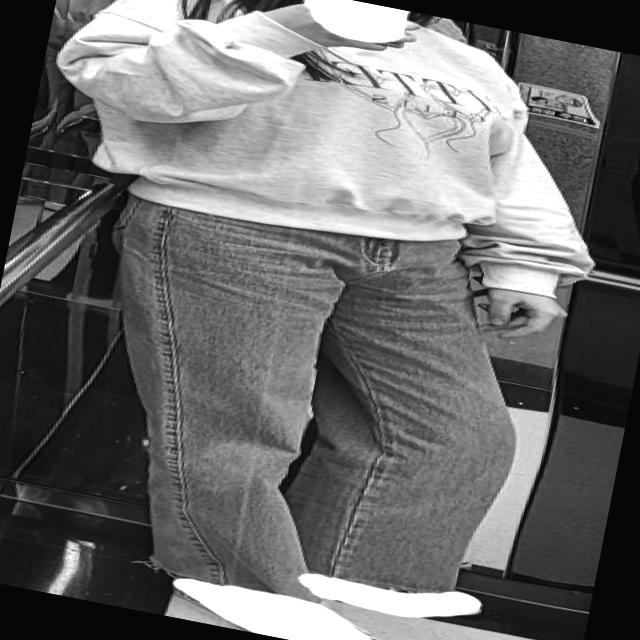denimpants: (51, 179, 553, 640)
mtm: (34, 0, 623, 302)
